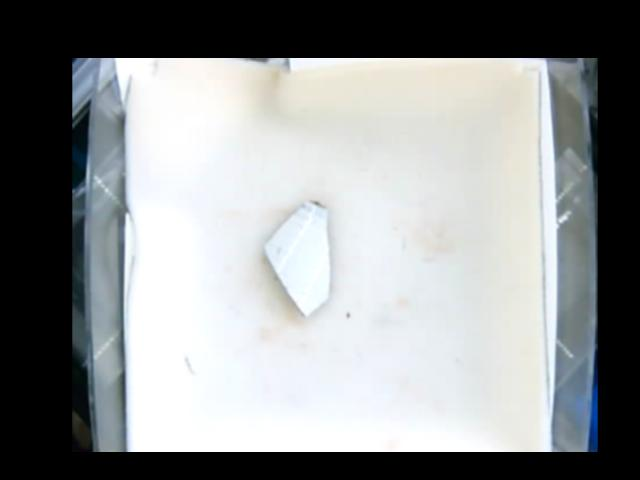China: (263, 199, 332, 316)
